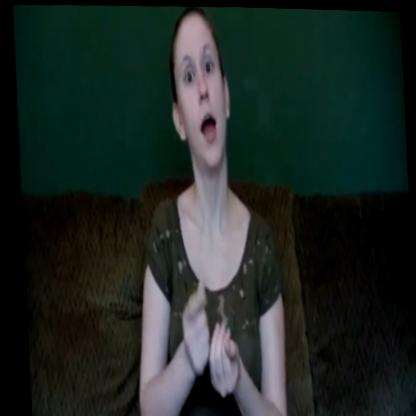HowAreYou: (116, 3, 284, 416)
